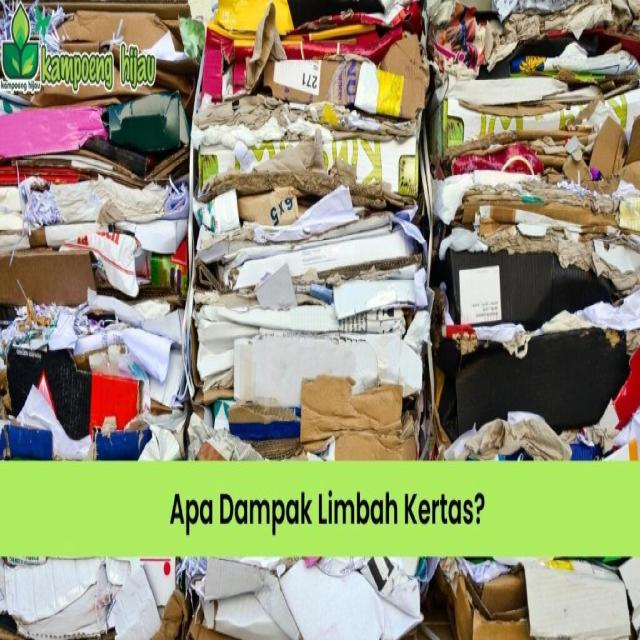Kertas: (31, 132, 622, 460)
